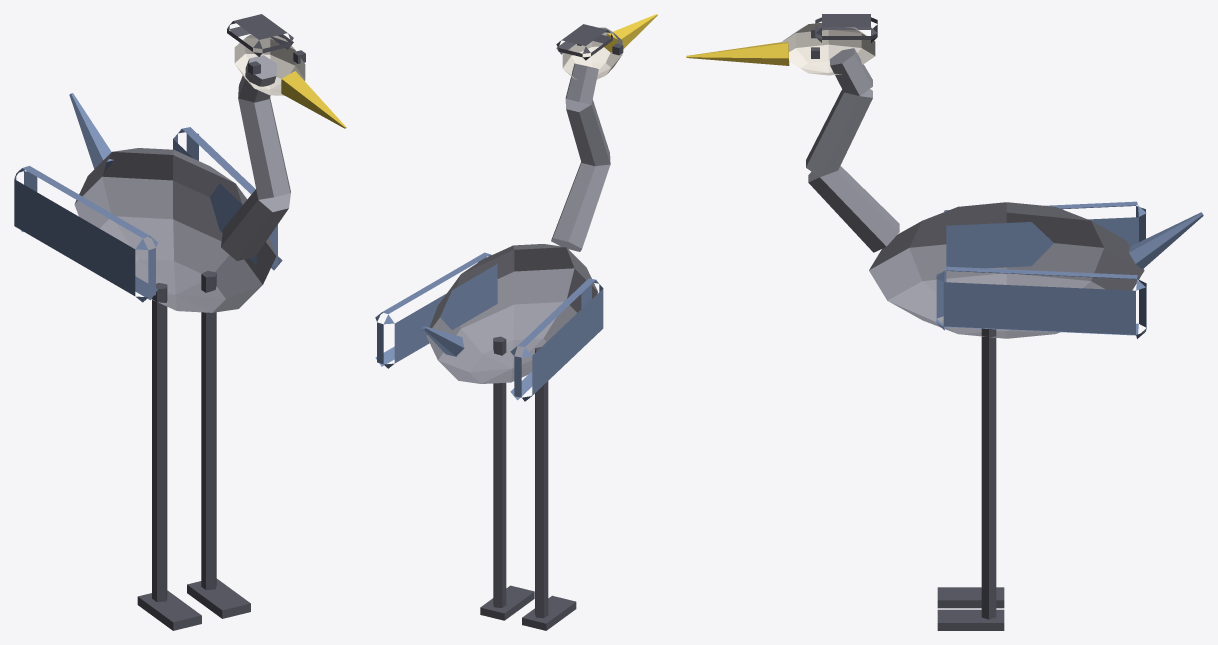
File: heron.glb
3 renders of one model, left to right at view 1: azimuth 30°, elevation 25°; view 2: azimuth 150°, elevation 25°; view 3: azimuth 270°, elevation 25°, orthographic. The views are drawn at different scales.
Visible parts, largest first — view 1: Body, WingR, Neck, LegR, LegL, Head, WingL; view 2: Body, Neck, WingL, WingR, LegL, LegR, Head; view 3: Body, WingL, Neck, LegL, WingR, Head, LegR.
Boxes of the visible parts, x1,y1,x2,y2 form: Body: [69, 93, 276, 312]; WingR: [14, 166, 157, 302]; Neck: [221, 55, 290, 260]; LegR: [137, 282, 201, 630]; LegL: [187, 271, 250, 618]; Head: [227, 14, 346, 128]; WingL: [173, 127, 282, 270]; Body: [422, 244, 597, 383]; Neck: [551, 63, 610, 251]; WingL: [375, 252, 497, 368]; WingR: [510, 278, 603, 401]; LegL: [480, 336, 534, 620]; LegR: [522, 347, 576, 630]; Head: [556, 14, 657, 79]; Body: [869, 202, 1203, 338]; WingL: [936, 266, 1146, 338]; Neck: [806, 48, 899, 252]; LegL: [937, 328, 1004, 630]; WingR: [944, 201, 1146, 268]; Head: [686, 14, 877, 75]; LegR: [937, 587, 1004, 608].
Size of the model in its own units: 0.092 by 0.3 by 0.2373.
